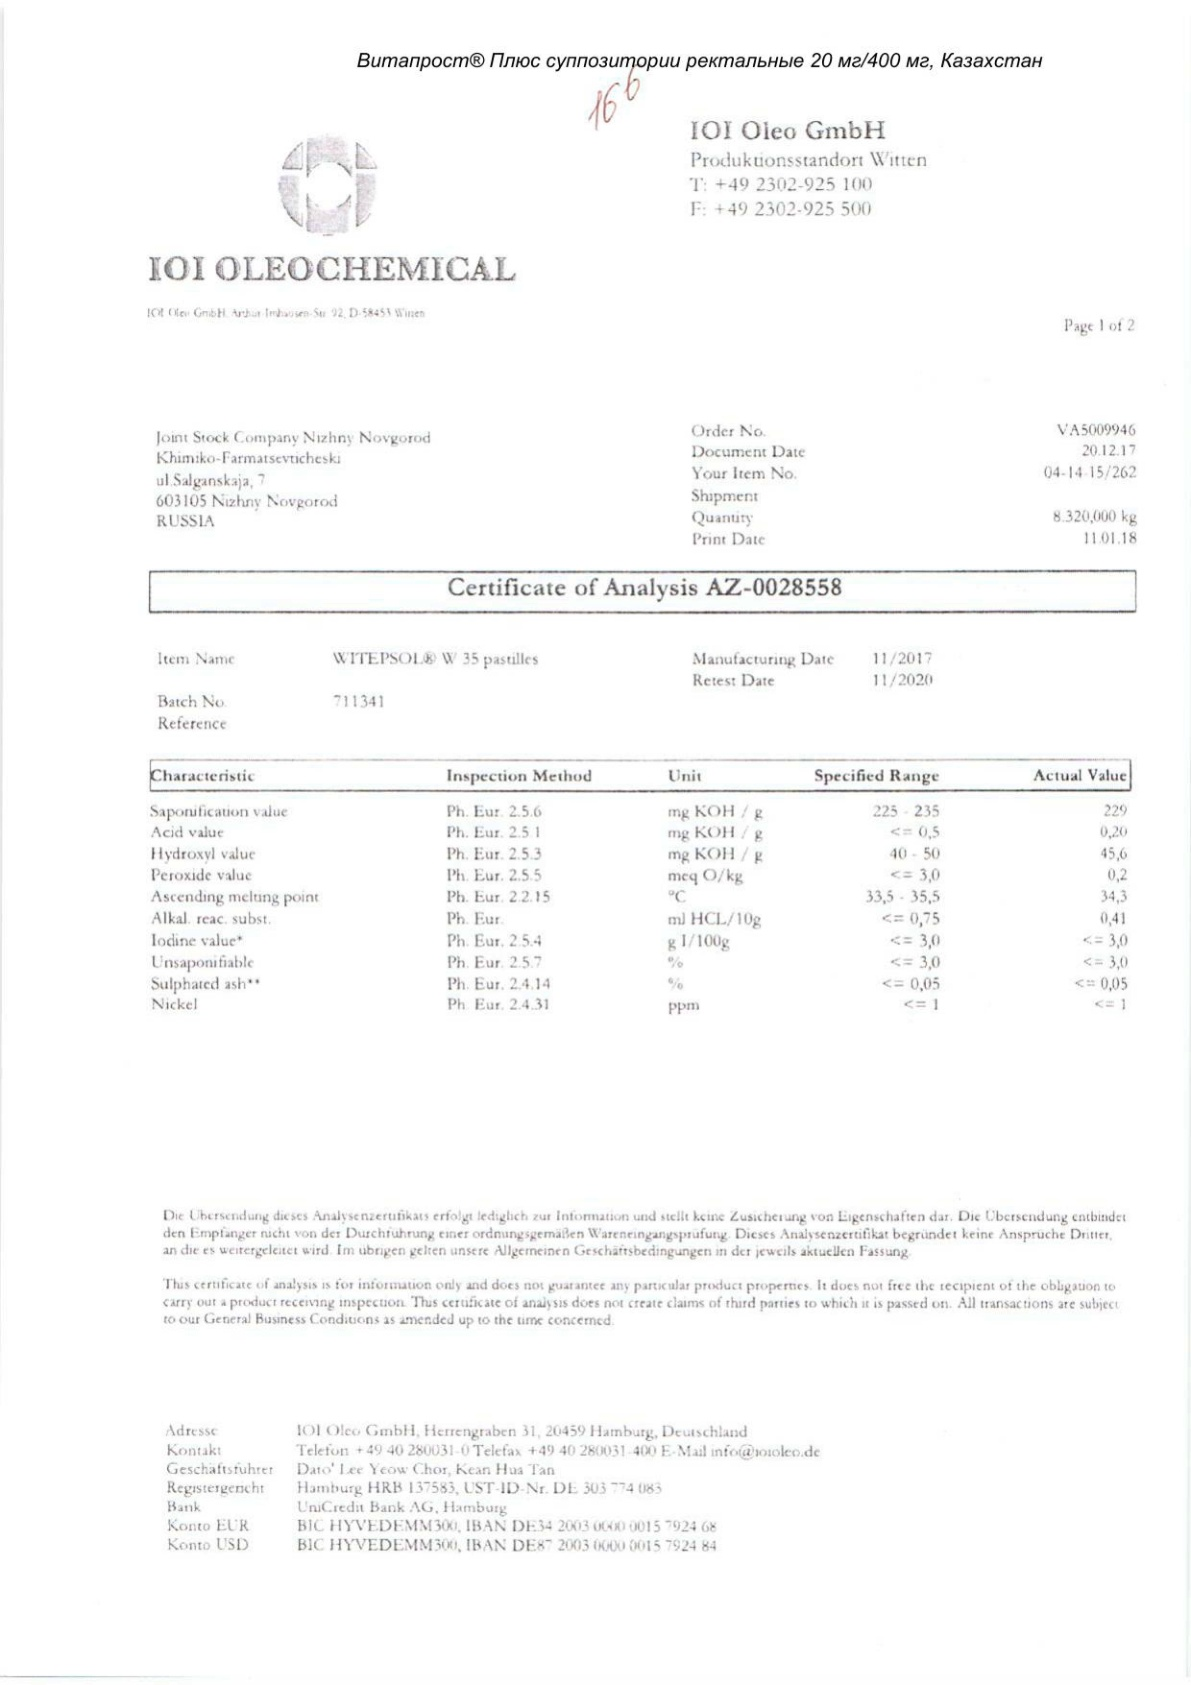nolines: (151, 416, 1139, 550)
partial_lined: (147, 757, 1133, 1013), (146, 569, 1138, 732)
